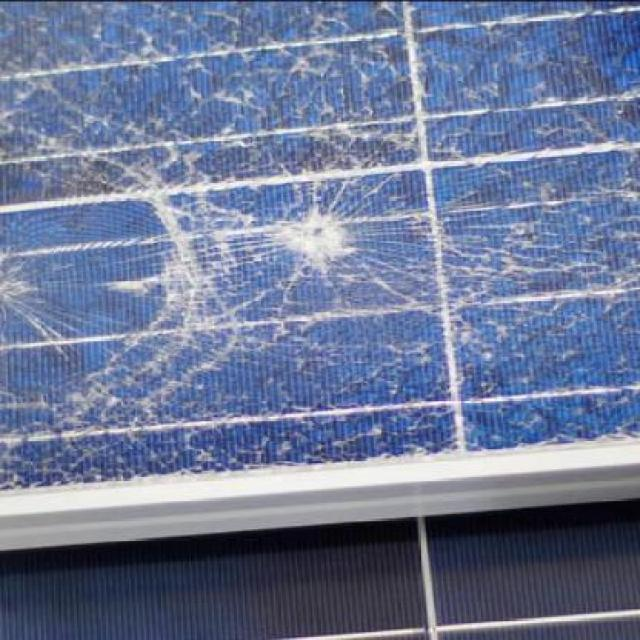cracked: (1, 3, 638, 486)
